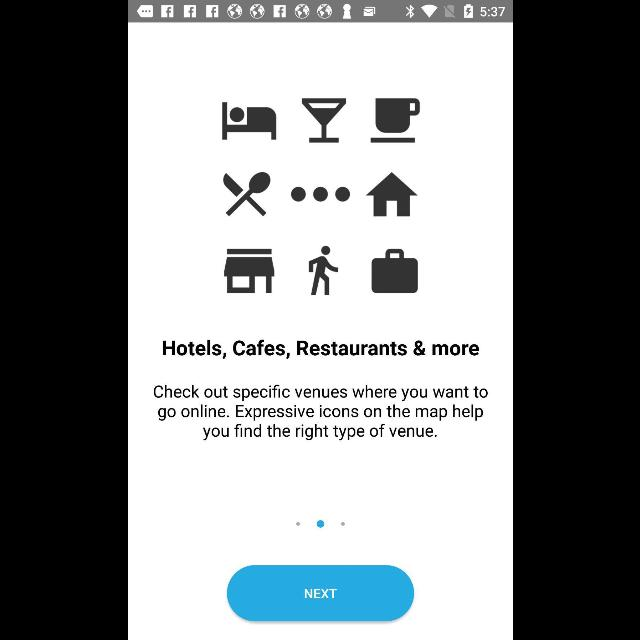image: (222, 98, 420, 296)
pageindicator: (296, 520, 344, 528)
text: (152, 384, 488, 441), (161, 339, 479, 359)
textbutton: (226, 565, 414, 621)
uppertaskbar: (128, 1, 512, 23)
